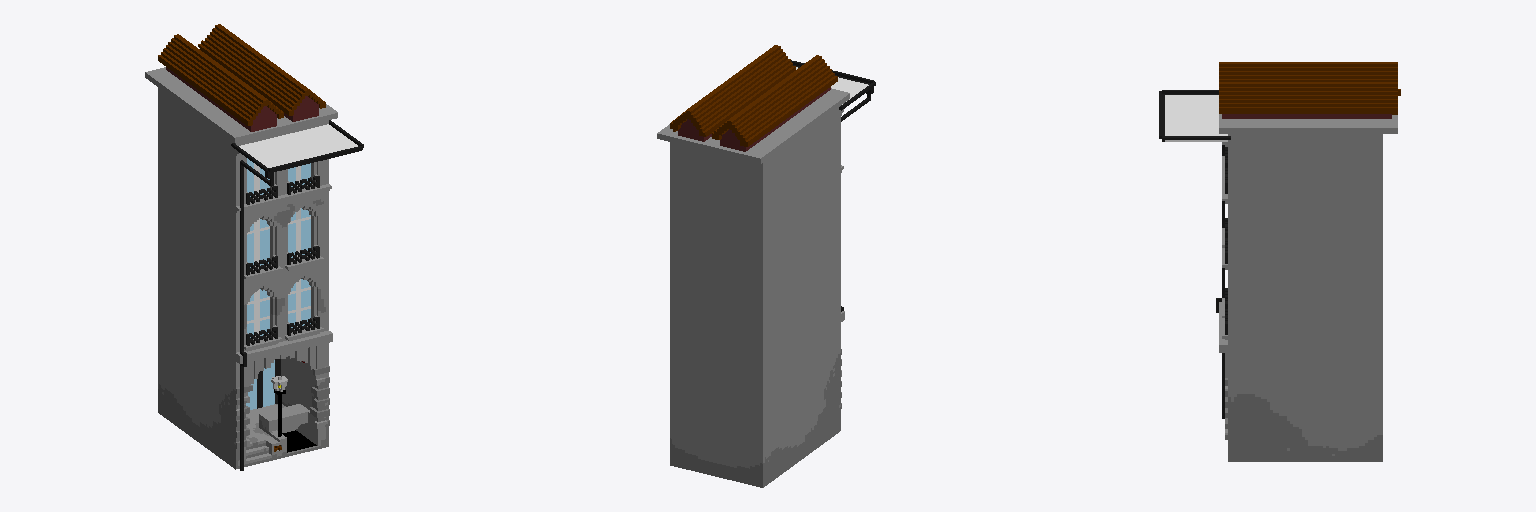
The picture shows the model from 3 angles: view 1: azimuth 30°, elevation 25°; view 2: azimuth 150°, elevation 25°; view 3: azimuth 270°, elevation 25°; orthographic projection.
Visible parts, largest first — view 1: object 1; view 2: object 1; view 3: object 1.
Part boxes in pixels (bbox=[...]): object 1: bbox=[145, 24, 363, 470]; object 1: bbox=[657, 45, 875, 487]; object 1: bbox=[1159, 62, 1400, 461].
Size of the model in its own units: 4 by 13.5 by 8.1.
1 materials, 1 textured.